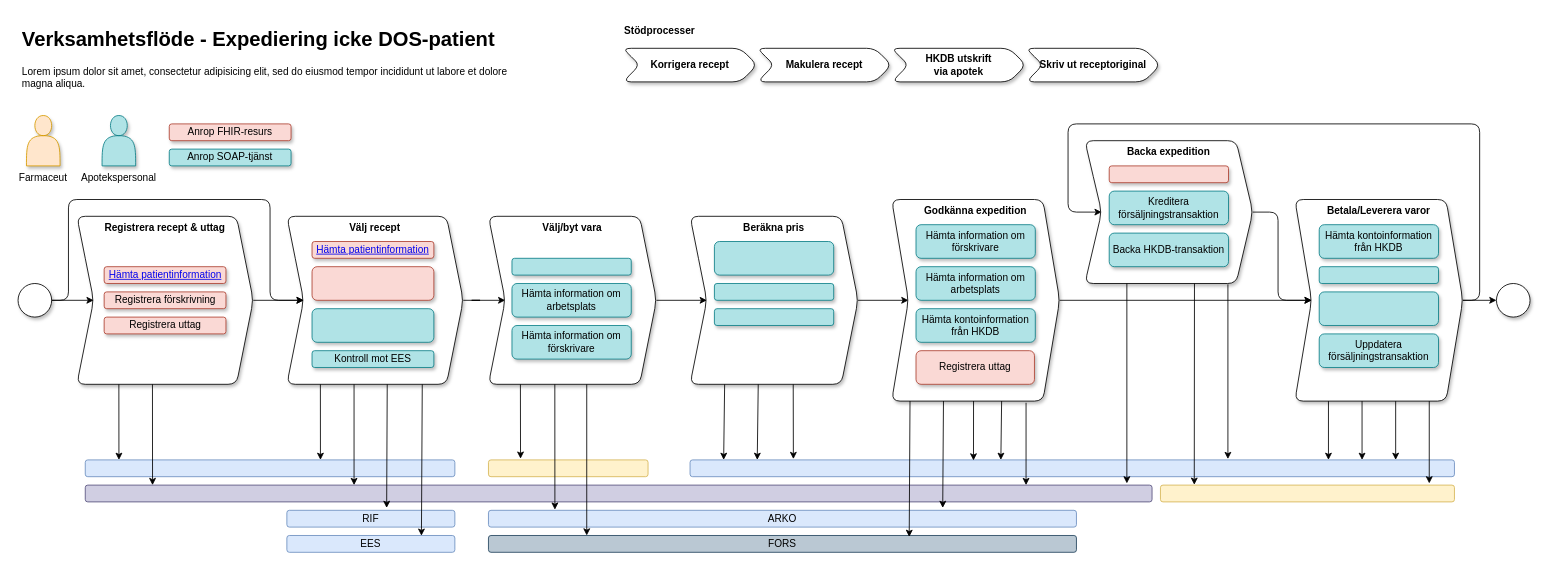
Image size: 1550x567. Some labels were removed from this diagram. The centre of each missing label's shape, as x and y in pixels:
"Backa uttag" goes at (1169,175).
"FOLK" goes at (269,468).
"FOTA" goes at (1307,493).
"Hämta förskrivningar och uttag" goes at (373,284).
"Hämta information från HKDB" goes at (774,259).
"Hämta substituion" goes at (572,267).
"Kontrollera förmån" goes at (774,292).
"Kontrollera utökad förskrivarbehörighet" goes at (373,326).
"Nationella läkemedelslistan (NLL)" goes at (618,493).
"PRIS/HKDB" goes at (1071,468).
"Prisberäkna" goes at (1379,275).
"Prisfråga" goes at (774,317).
"Registrera HKDB-transaktion" goes at (1379,309).
"VARA" goes at (568,468).
